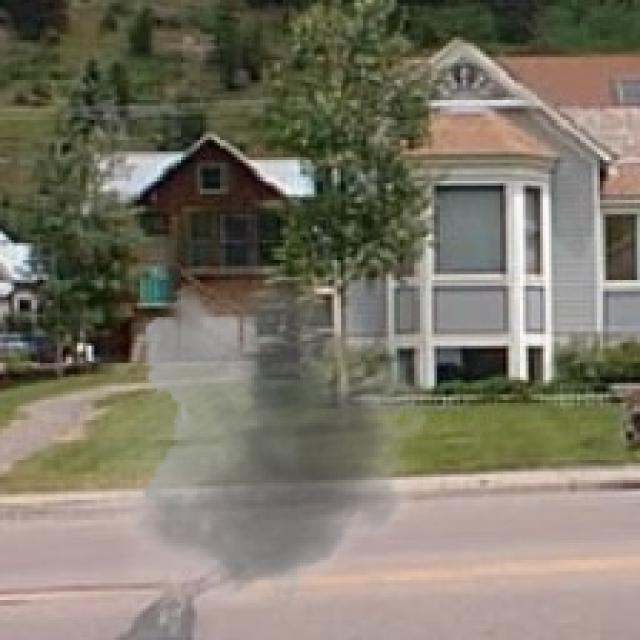Smoke: (66, 263, 448, 620)
